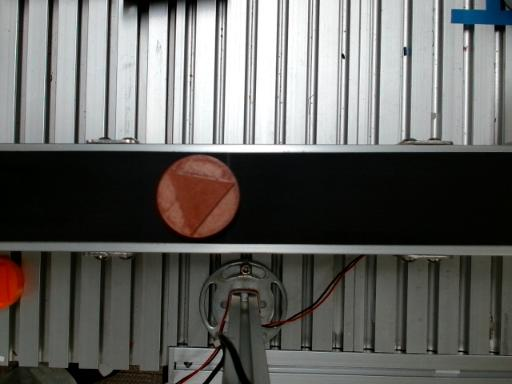Brown_Waper: (157, 155, 239, 238)
Not_Square: (165, 170, 236, 238)
